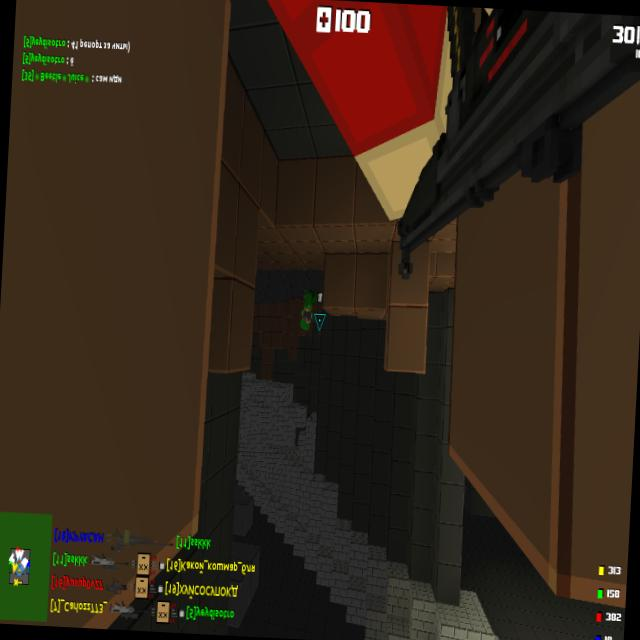enemy: (299, 291, 314, 332)
